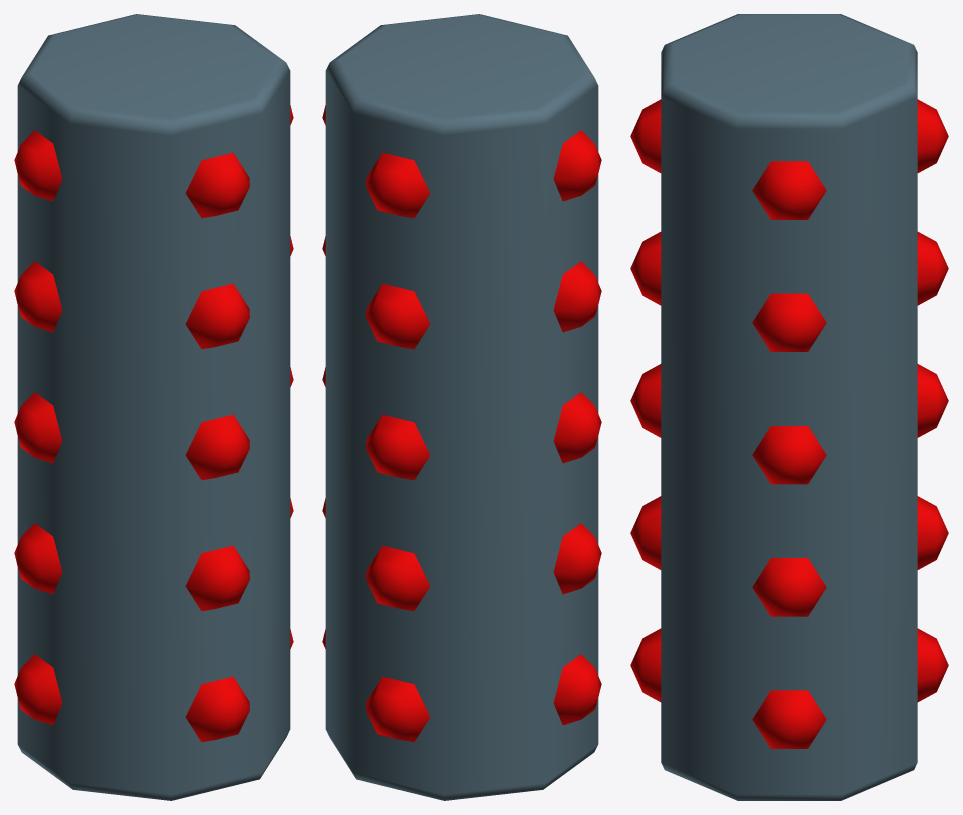
The model's file is trap_trugaithang.fbx.
The picture shows the model from 3 angles, left to right: view 1: azimuth 30°, elevation 25°; view 2: azimuth 150°, elevation 25°; view 3: azimuth 270°, elevation 25°; orthographic projection.
Parts seen in each view (by area): view 1: trugai; view 2: trugai; view 3: trugai.
Boxes of the visible parts, box(x1,y1,x2,y2) form: trugai: box(14, 14, 293, 800); trugai: box(322, 14, 601, 800); trugai: box(630, 14, 948, 800).
Size of the model in its own units: 106 by 253 by 106.
